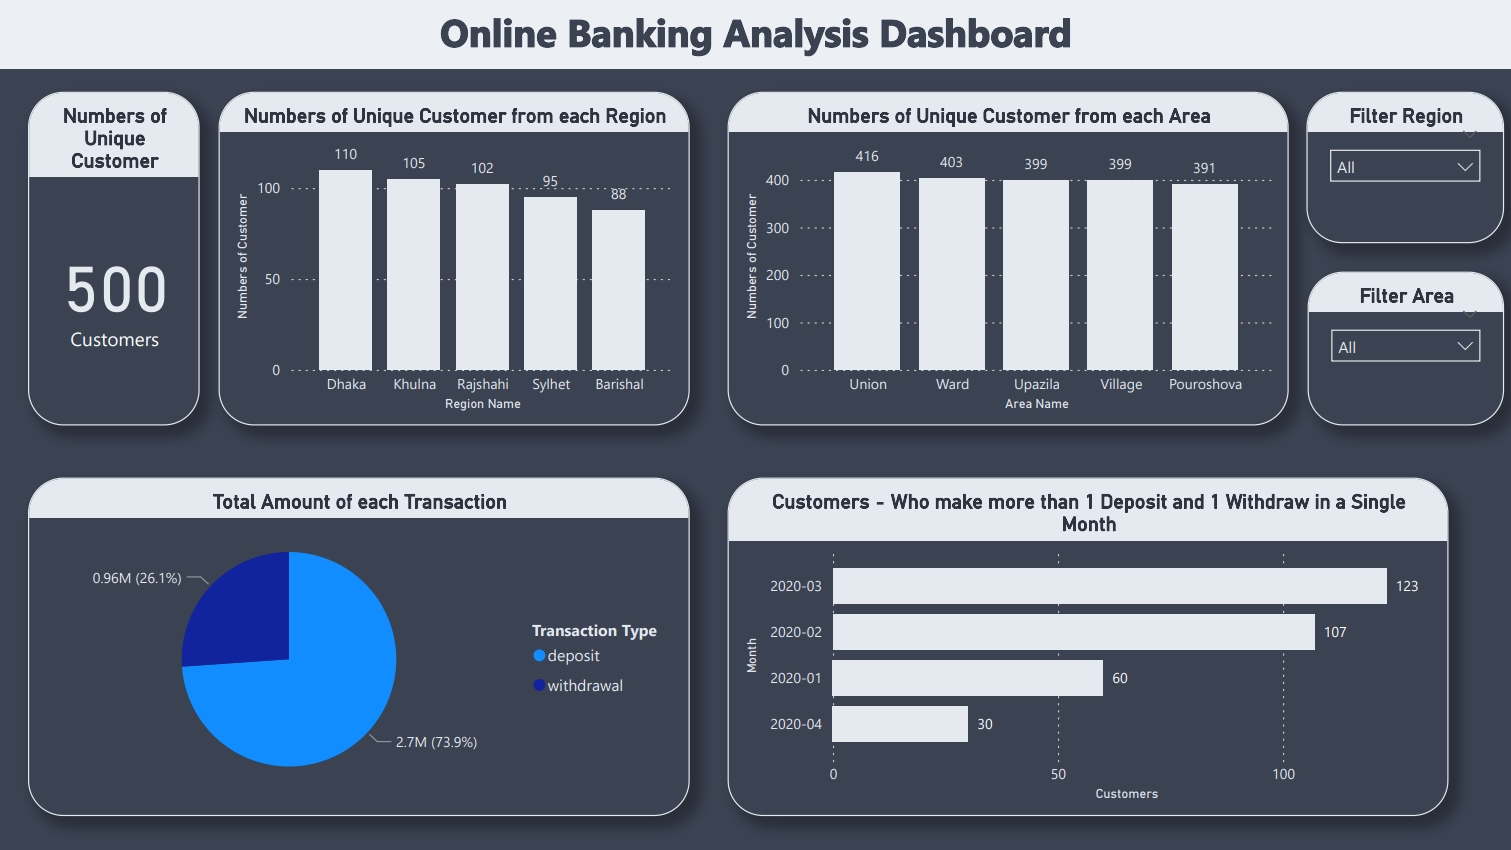

The page's visual inventory and layout, read from the dashboard file:
{"tool":"powerbi","page":{"name":"Page 1","canvas":[1280,720],"ordinal":0},"visuals":[{"type":"card","title":"Numbers of Unique Customer","fields":{"Values":["Sum(Query1.unique_customer)"]},"box":[25,78,145,282],"z":0},{"type":"clusteredColumnChart","title":"Numbers of Unique  Customer from each Region","fields":{"Category":["Query2.region_name"],"Y":["Sum(Query2.unique_customer)"]},"box":[186,78,398,282],"z":1000},{"type":"textbox","box":[0,0,1280,59.3],"z":2000},{"type":"clusteredColumnChart","title":"Numbers of Unique  Customer from each Area","fields":{"Category":["Query3.name"],"Y":["Sum(Query3.unique_customer)"]},"box":[616,78,474,282],"z":3000},{"type":"pieChart","title":"Total Amount of each Transaction","fields":{"Category":["Query4.transaction_type"],"Y":["Sum(Query4.total_amount)"]},"box":[24.6,403.9,559.3,286.2],"z":4000},{"type":"clusteredBarChart","title":"Customers - Who make more than 1 Deposit and 1 Withdraw  in a Single Month","fields":{"Category":["Query5.month"],"Y":["Sum(Query5.customers)"]},"box":[616.4,403.9,608.5,286.2],"z":5000},{"type":"slicer","title":"Filter Region","fields":{"Values":["Query2.region_name"]},"box":[1105,78,167,128],"z":6000},{"type":"slicer","title":"Filter Area","fields":{"Values":["Query3.name"]},"box":[1105.9,229.5,166.3,130.3],"z":7000}]}

Visuals, with their boxes in screenshot pixels (x1, y1, x2, y2), scaled from the page's 1280x720 canvas onto the 1511x850 screenshot:
"Numbers of Unique Customer" card: pyautogui.locateOnScreen(30, 92, 201, 425)
"Numbers of Unique  Customer from each Region" clusteredColumnChart: pyautogui.locateOnScreen(220, 92, 689, 425)
textbox: pyautogui.locateOnScreen(0, 0, 1510, 70)
"Numbers of Unique  Customer from each Area" clusteredColumnChart: pyautogui.locateOnScreen(727, 92, 1287, 425)
"Total Amount of each Transaction" pieChart: pyautogui.locateOnScreen(29, 477, 689, 815)
"Customers - Who make more than 1 Deposit and 1 Withdraw  in a Single Month" clusteredBarChart: pyautogui.locateOnScreen(728, 477, 1446, 815)
"Filter Region" slicer: pyautogui.locateOnScreen(1304, 92, 1502, 243)
"Filter Area" slicer: pyautogui.locateOnScreen(1305, 271, 1502, 425)
